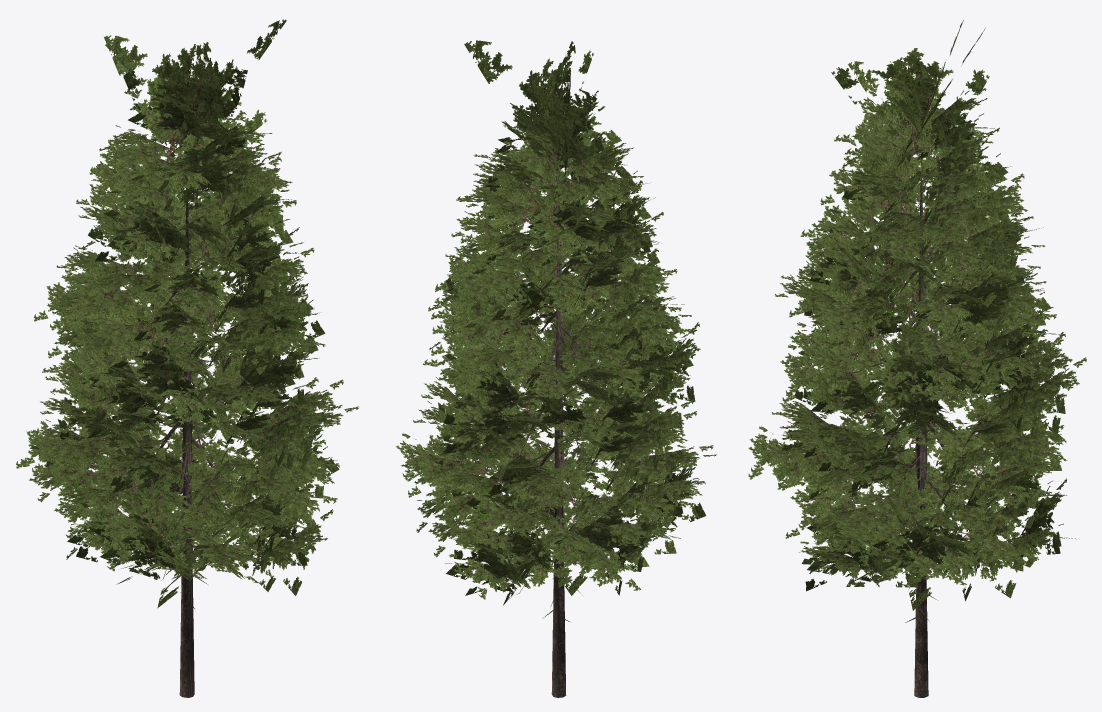
File: fir.glb
3 renders of one model, left to right at view 1: azimuth 30°, elevation 25°; view 2: azimuth 150°, elevation 25°; view 3: azimuth 270°, elevation 25°, orthographic. The views are drawn at different scales.
Parts seen in each view (by area): view 1: fir; view 2: fir; view 3: fir.
Boxes of the visible parts, x1,y1,x2,y2 form: fir: (16, 19, 358, 697); fir: (395, 40, 716, 697); fir: (748, 20, 1086, 697).
Size of the model in its own units: 9.78 by 21 by 9.82.
2 materials, 2 textured.
